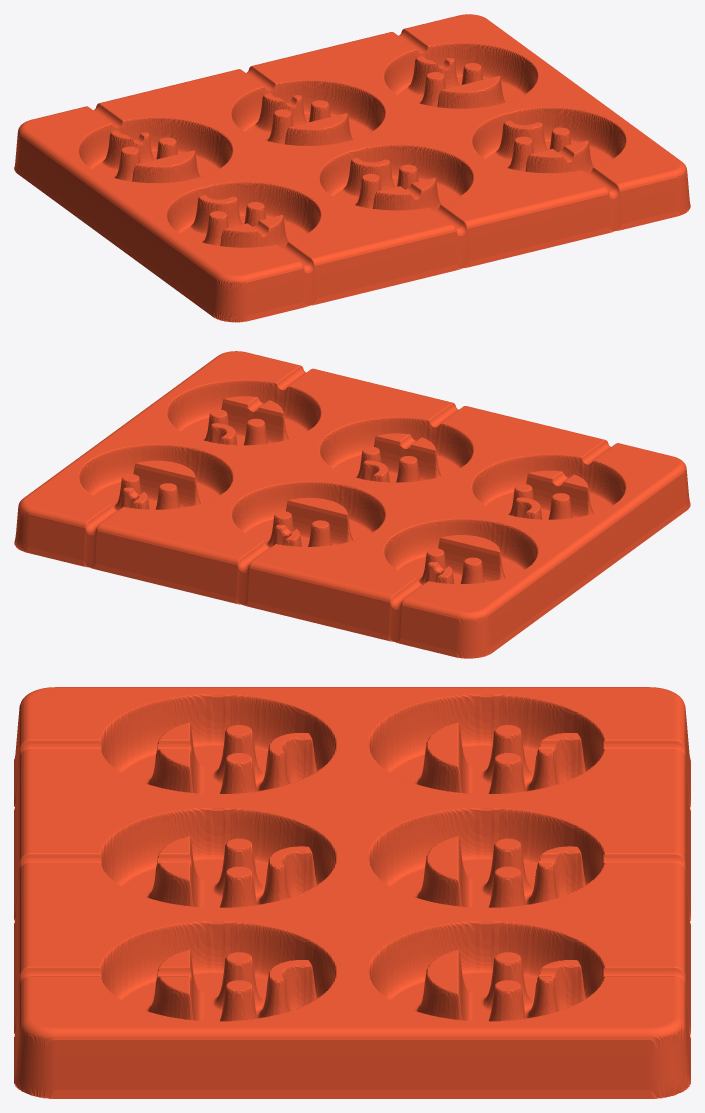
The model's file is mold.glb.
3 views of the same model, one above another, from view 1: azimuth 30°, elevation 25°; view 2: azimuth 150°, elevation 25°; view 3: azimuth 270°, elevation 25° (orthographic). The views are drawn at different scales.
Parts seen in each view (by area): view 1: geometry_0; view 2: geometry_0; view 3: geometry_0.
Part boxes in pixels (box(x1,y1,x2,y2)): geometry_0: box(14, 14, 690, 322); geometry_0: box(14, 351, 690, 658); geometry_0: box(14, 687, 690, 1098).
Size of the model in its own units: 0.1824 by 0.0155 by 0.1477.
